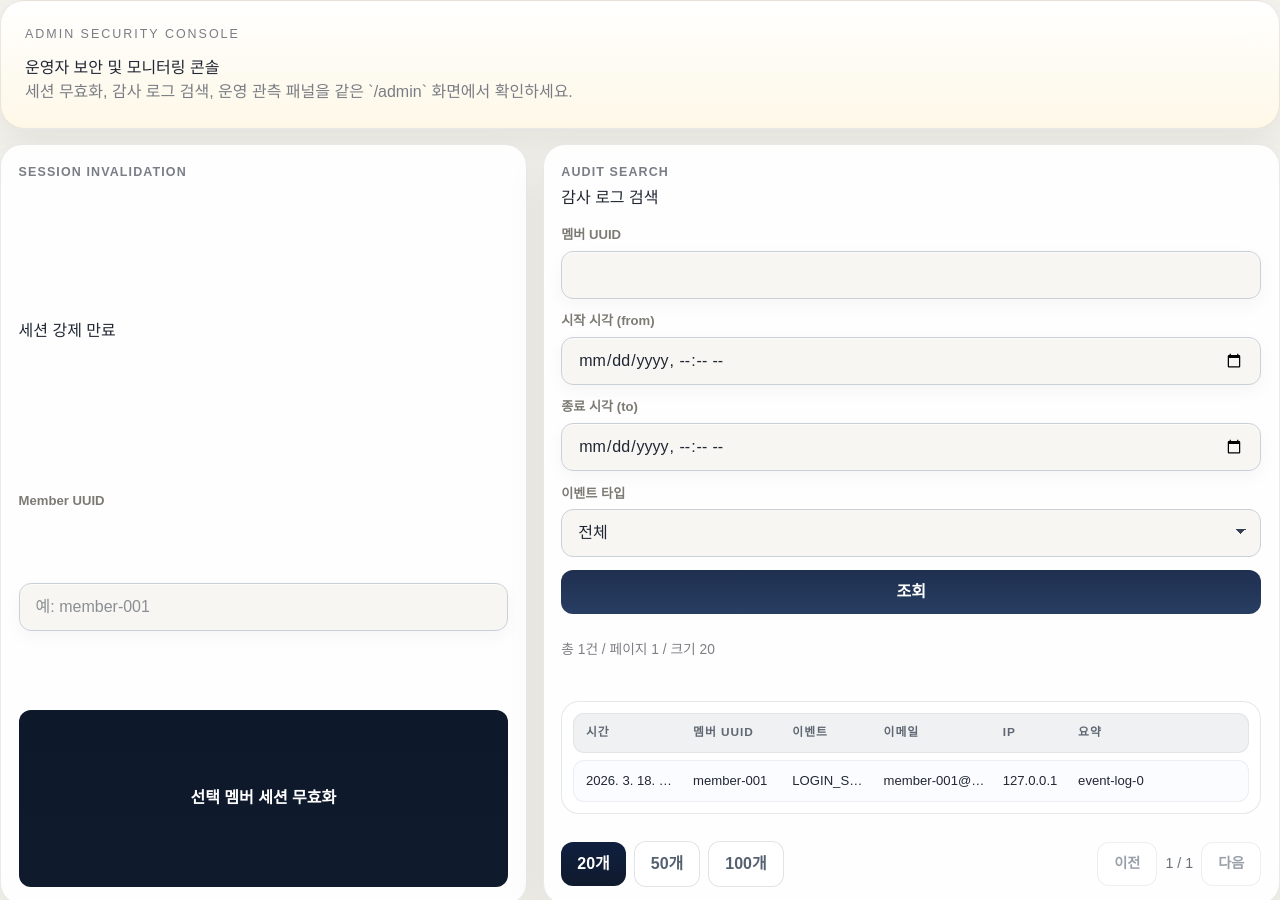
Test: AdminConsolePage › applies audit filters and page navigation to the query contract
The image size is (1280, 900).
Expected: the element with test id "admin-audit-row-log-0" is shown, left=573, top=760, right=1249, bottom=802
Type "member-001" into the field with test id "admin-audit-member-id" at (911, 275), box left=561, top=251, right=1261, bottom=299
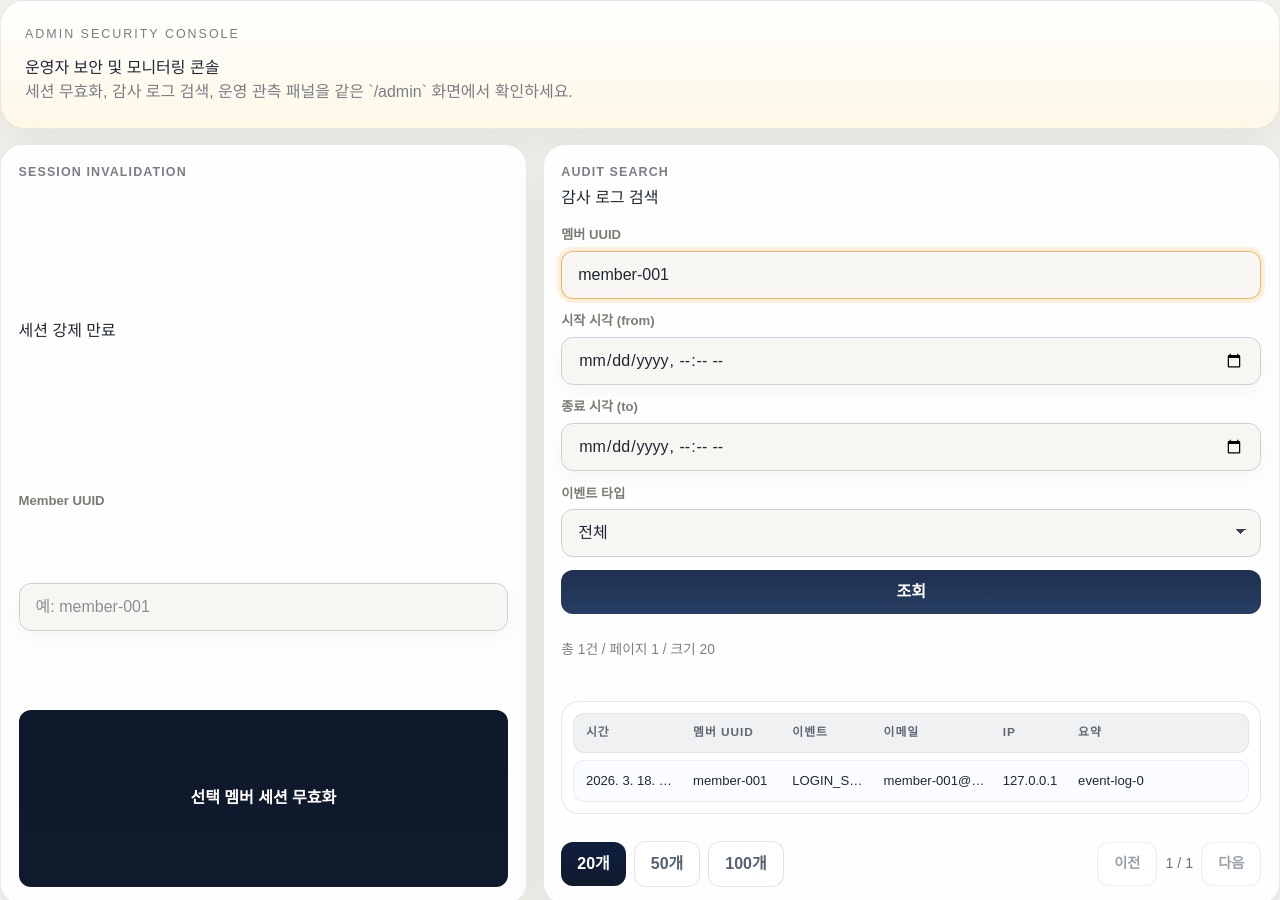
Type "2026-03-18T00:00" into the field with test id "admin-audit-from" at (911, 361), box left=561, top=337, right=1261, bottom=385
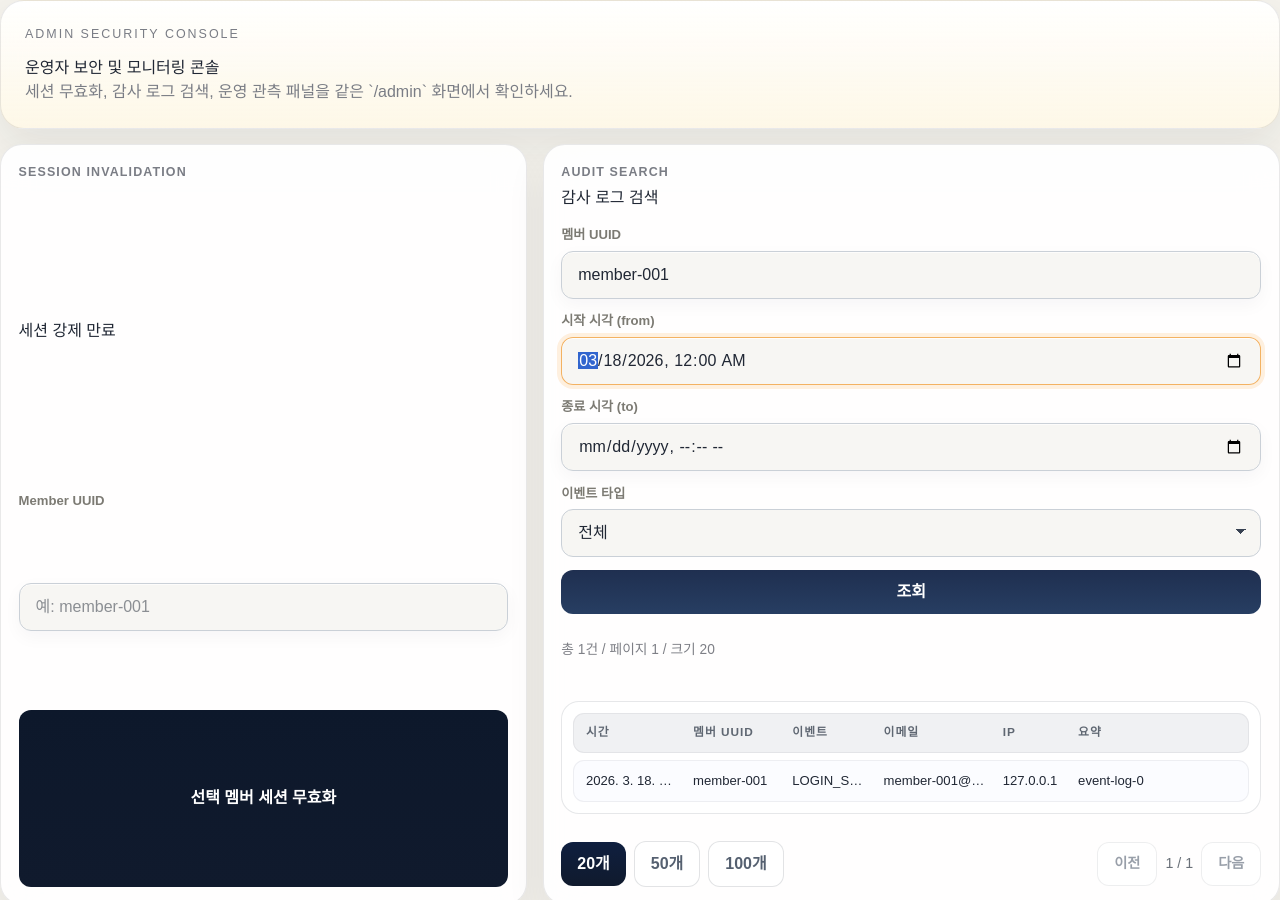
Type "2026-03-18T23:59" into the field with test id "admin-audit-to" at (911, 447), box left=561, top=423, right=1261, bottom=471
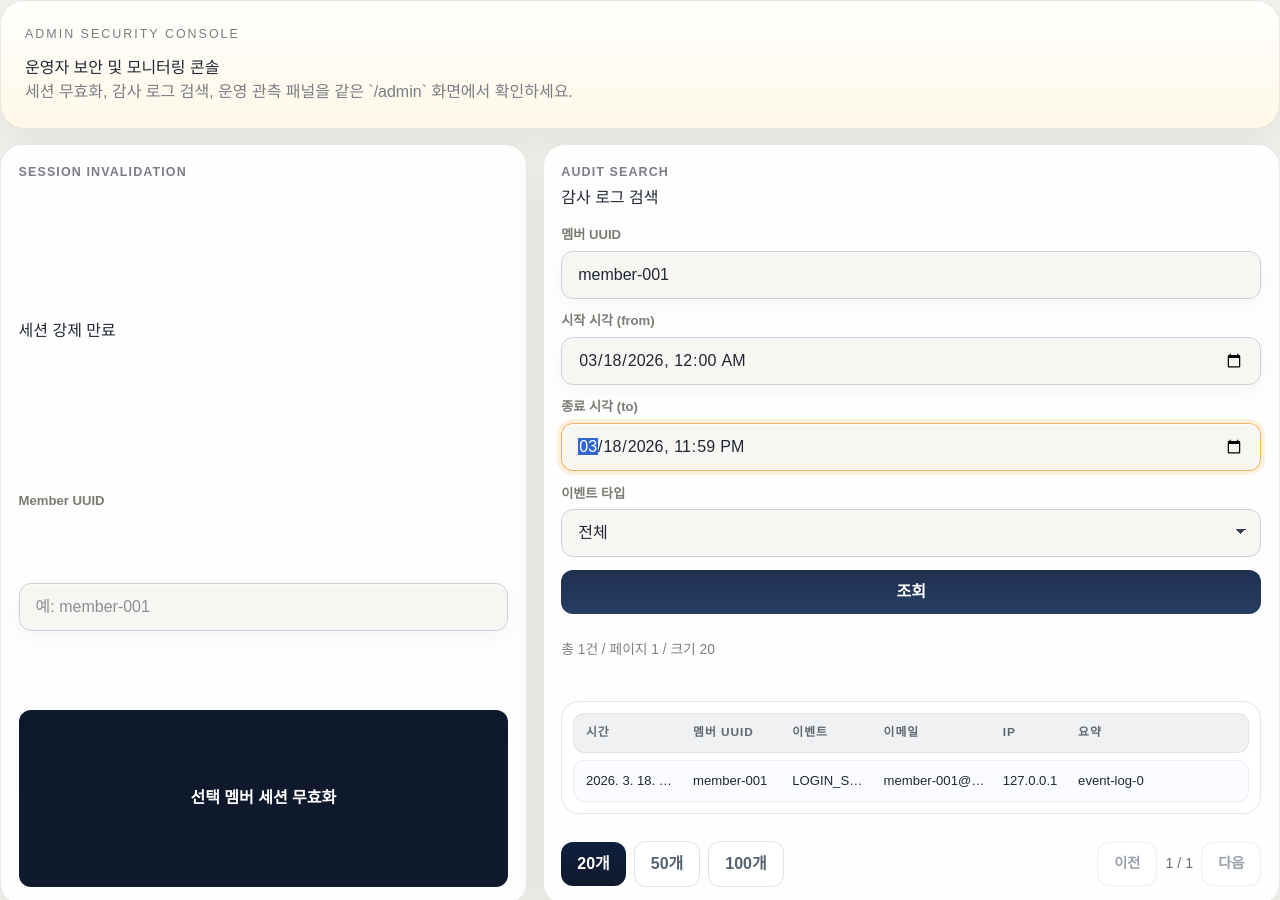
Select "LOGIN_FAIL" in the dropdown with test id "admin-audit-event-type" at (911, 533), box left=561, top=509, right=1261, bottom=557
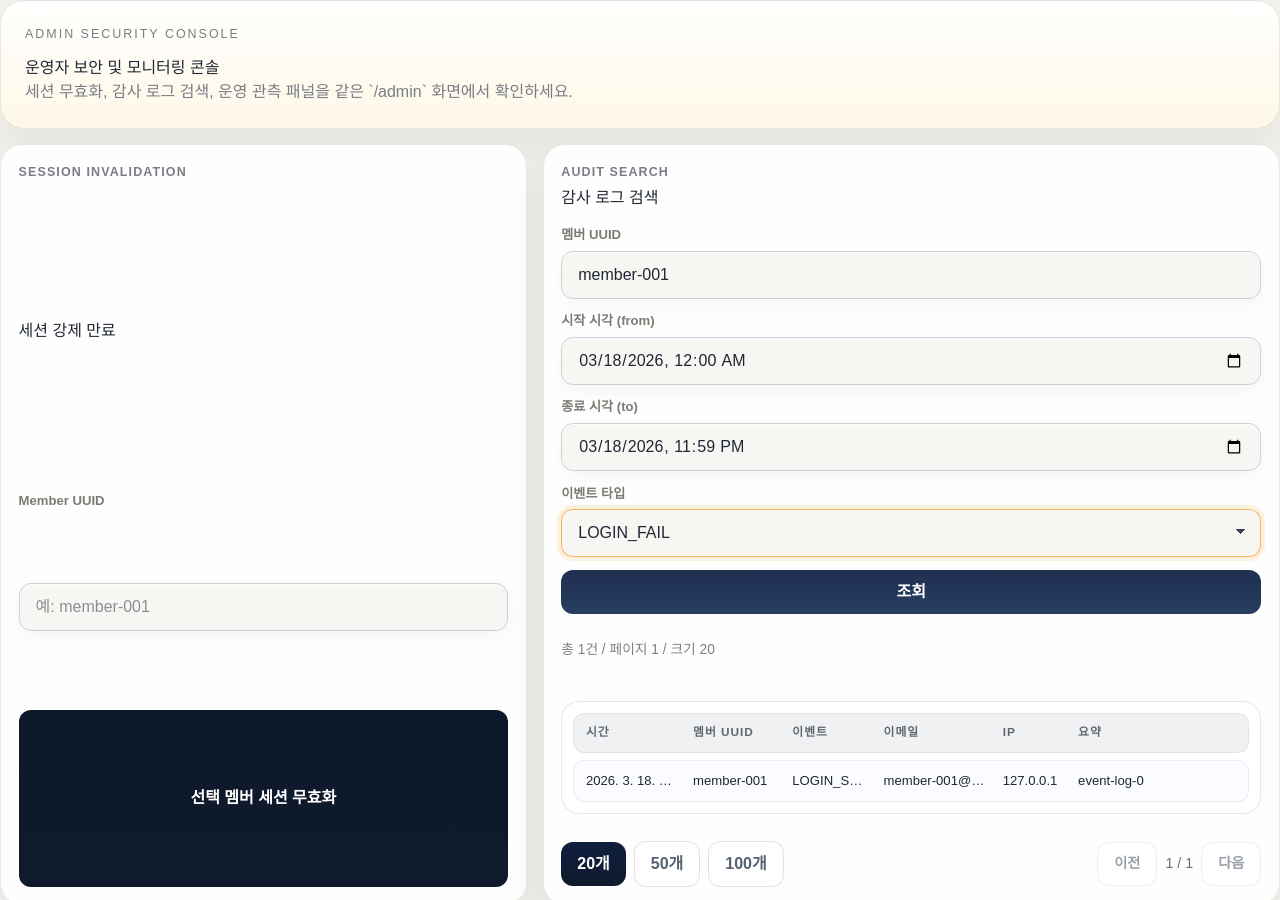
Click the button with test id "admin-audit-search" at (911, 592), box left=561, top=570, right=1261, bottom=614
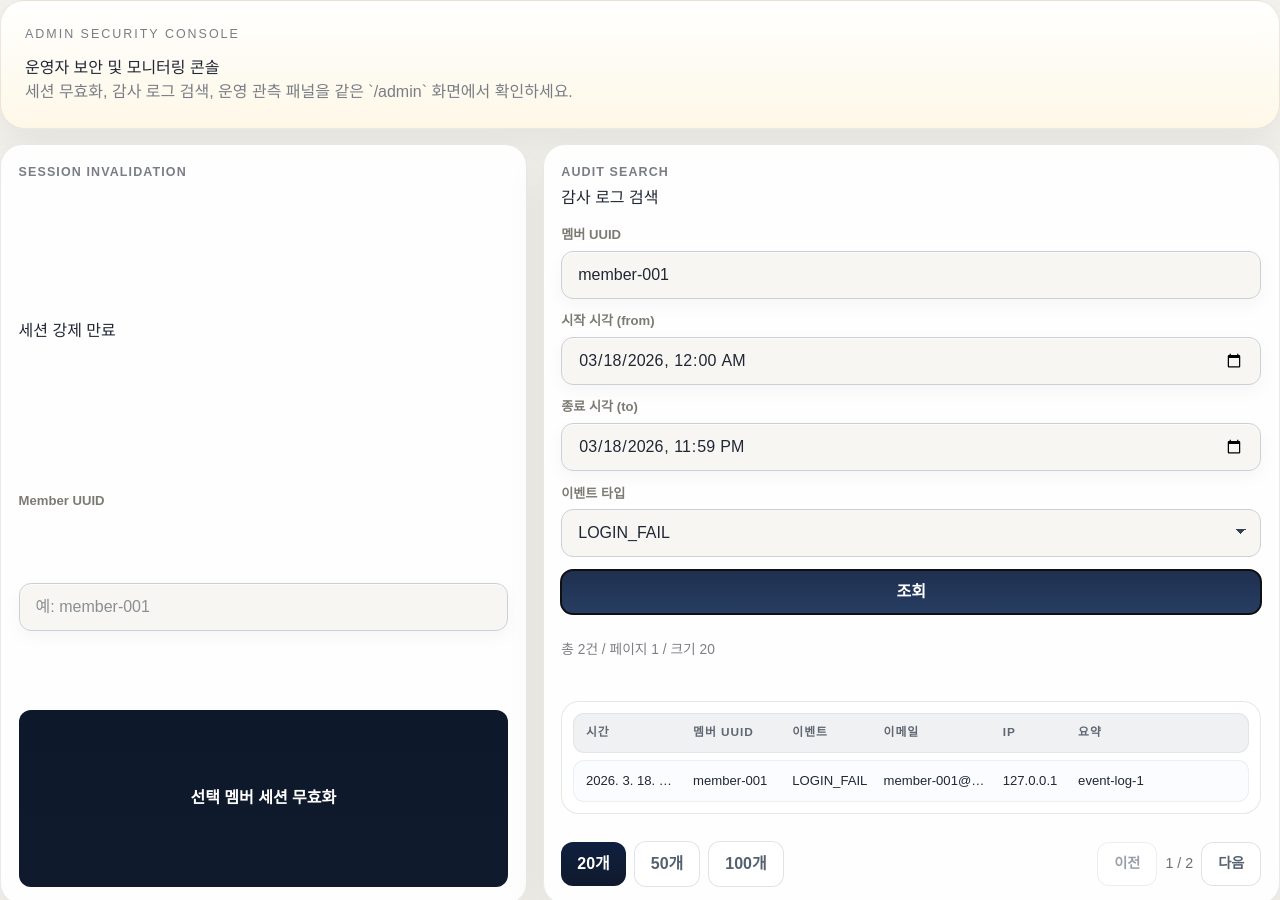
Expected: the element with test id "admin-audit-row-log-1" is shown, left=573, top=760, right=1249, bottom=802
Click the button with test id "admin-audit-next" at (1231, 864), box left=1201, top=842, right=1261, bottom=886
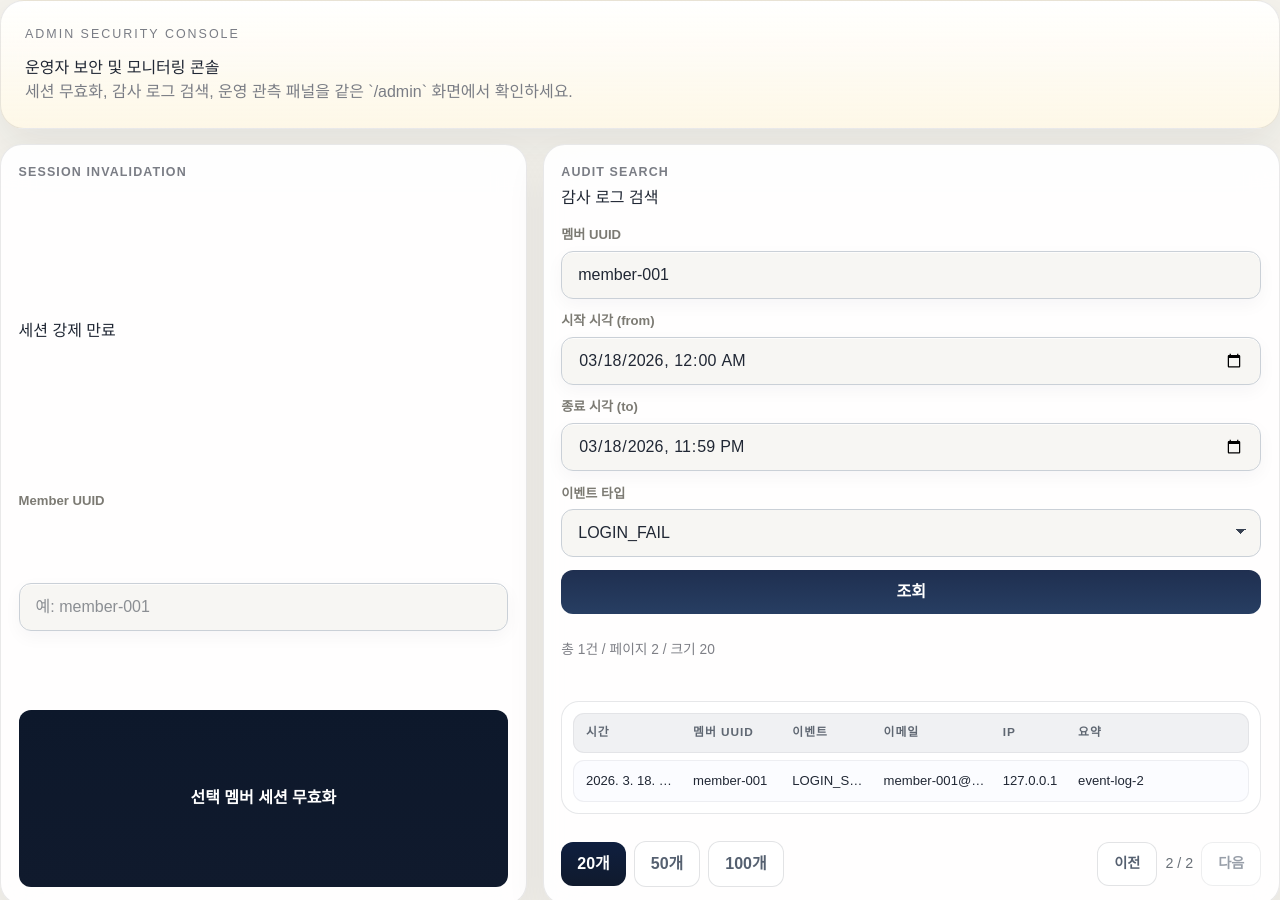
Expected: the element with test id "admin-audit-row-log-2" is shown, left=573, top=760, right=1249, bottom=802
Expected: the text with test id "admin-audit-page-indicator" reads "2 / 2", left=1166, top=853, right=1193, bottom=875
